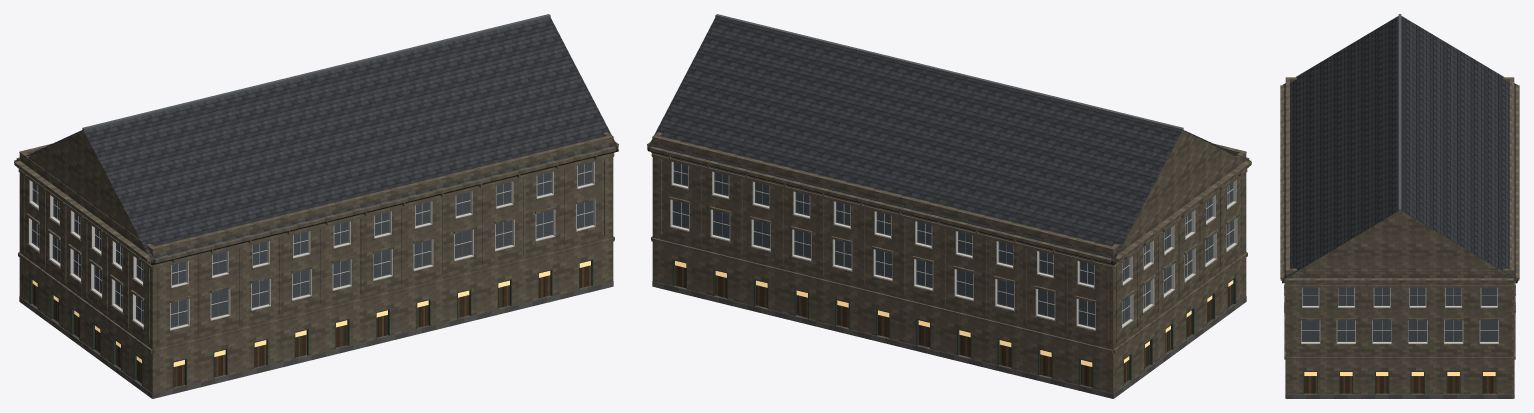
Rendered from A_harbour_offices.glb.
The picture shows the model from 3 angles, left to right: view 1: azimuth 30°, elevation 25°; view 2: azimuth 150°, elevation 25°; view 3: azimuth 270°, elevation 25°; orthographic projection. The views are drawn at different scales.
Parts seen in each view (by area): view 1: A_harbour_offices; view 2: A_harbour_offices; view 3: A_harbour_offices.
Boxes of the visible parts, x1,y1,x2,y2 form: A_harbour_offices: [14, 14, 618, 398]; A_harbour_offices: [647, 14, 1251, 398]; A_harbour_offices: [1280, 14, 1519, 398].
Bounding box in the file's own units: 40.98 × 18.46 × 20.98.
Materials: 14 (7 with a texture image).
